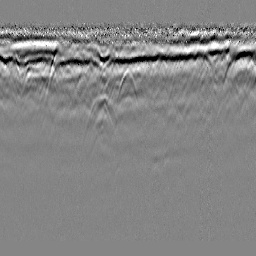cavity: (116, 68, 139, 102)
